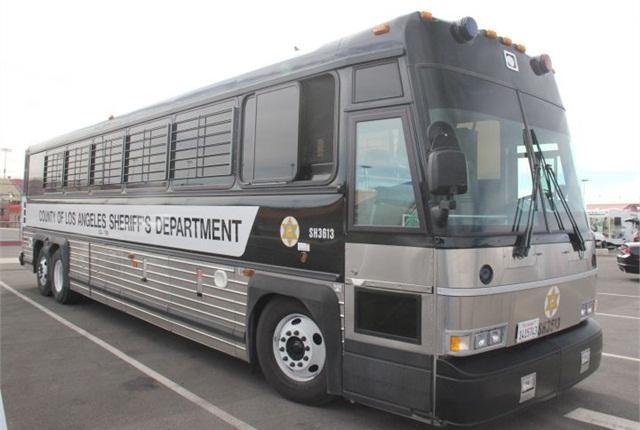Bus: (20, 11, 605, 429)
